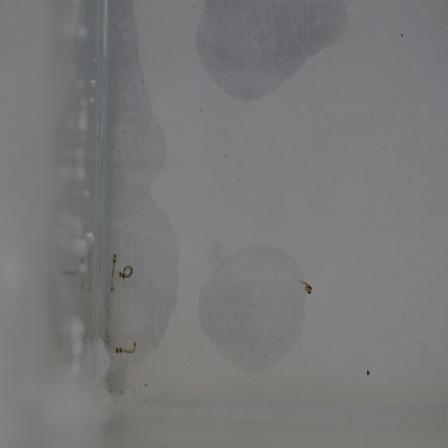Jentik-Nyamuk: (104, 250, 137, 295), (109, 337, 140, 358), (296, 276, 317, 298)
